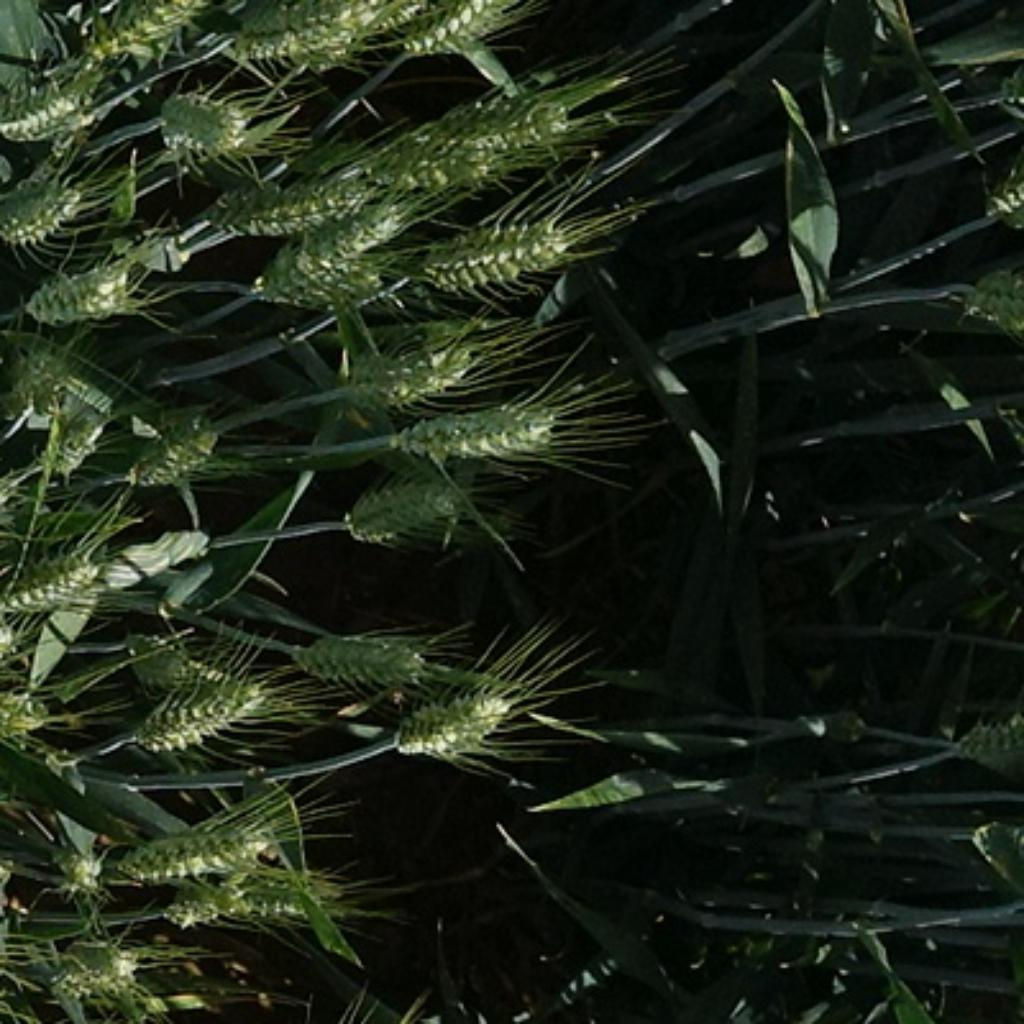0-0: (386, 392, 588, 469), (245, 204, 386, 312), (161, 867, 371, 939), (427, 84, 614, 163), (422, 204, 578, 294), (135, 673, 276, 765), (197, 176, 396, 240), (340, 125, 514, 197), (112, 806, 279, 880), (222, 2, 391, 71), (346, 326, 497, 403), (391, 675, 519, 762), (337, 465, 476, 542), (284, 619, 435, 688), (12, 253, 148, 327), (122, 401, 227, 491), (0, 58, 102, 145), (153, 79, 258, 158), (43, 934, 148, 1011), (0, 547, 104, 624), (394, 0, 510, 67), (112, 629, 222, 696), (0, 161, 87, 245), (33, 386, 112, 476), (76, 2, 192, 61), (5, 337, 84, 414), (0, 668, 53, 742), (61, 845, 112, 904), (0, 1021, 107, 1024)
